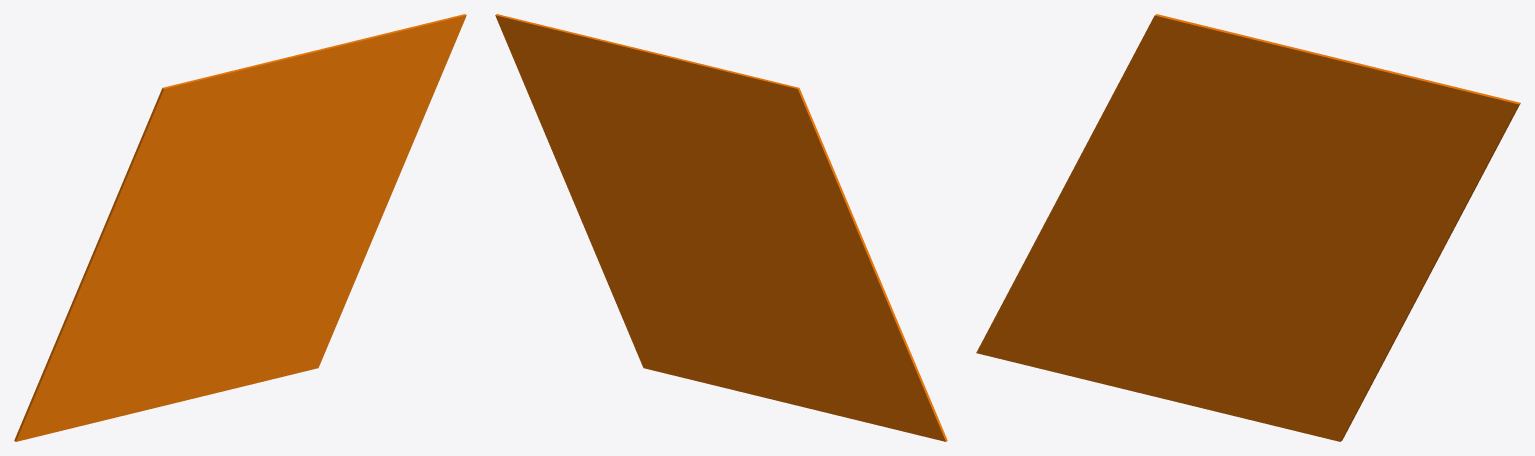
File: Jajar_Genjang.fbx
3 views of the same model, side by side, from view 1: azimuth 30°, elevation 25°; view 2: azimuth 150°, elevation 25°; view 3: azimuth 330°, elevation 25° (orthographic). The views are drawn at different scales.
Parts seen in each view (by area): view 1: Plane; view 2: Plane; view 3: Plane.
Boxes of the visible parts, <box> form: Plane: <box>14,14,466,441</box>; Plane: <box>495,14,947,441</box>; Plane: <box>976,14,1520,441</box>.
Size of the model in its own units: 298 by 200 by 2.
